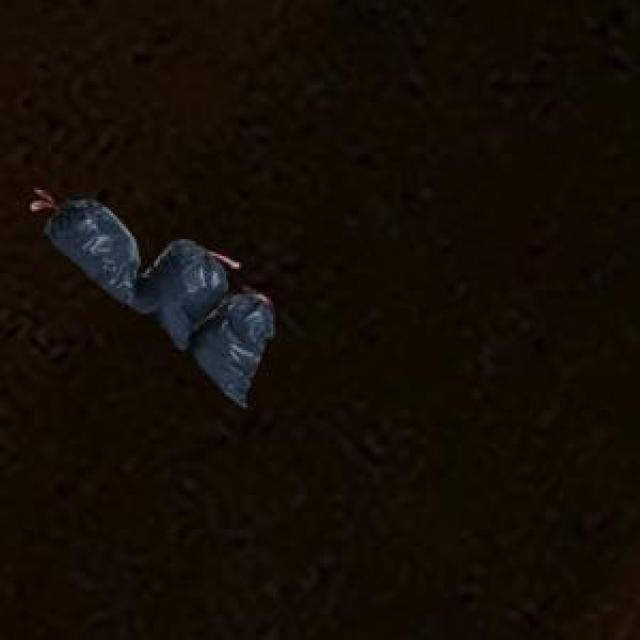Vinyl: (49, 192, 144, 298), (192, 290, 278, 406), (147, 240, 223, 344)
